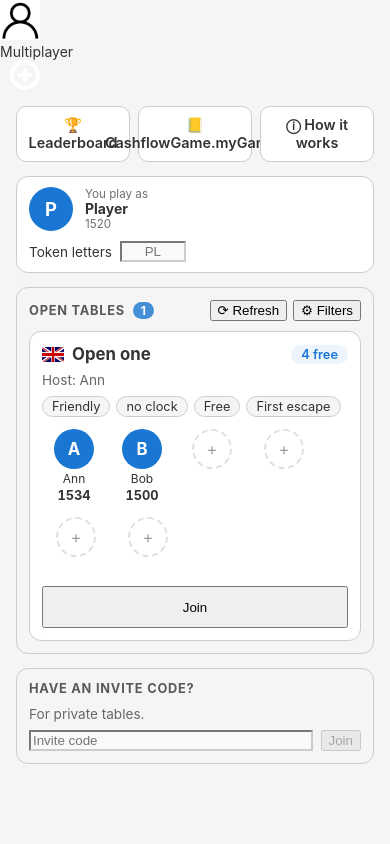
Test: TablesLobbyComponent › shows who sits at a table before joining, and opens their stats with a tap
This screenshot has width=390, height=844.
Check: the button with class "tl-seat" showing "B Bob 1500" is disabled, box [110, 425, 174, 507]
Click the button with class "tl-seat" showing "A Ann 1534" at (74, 466), box [42, 425, 106, 507]
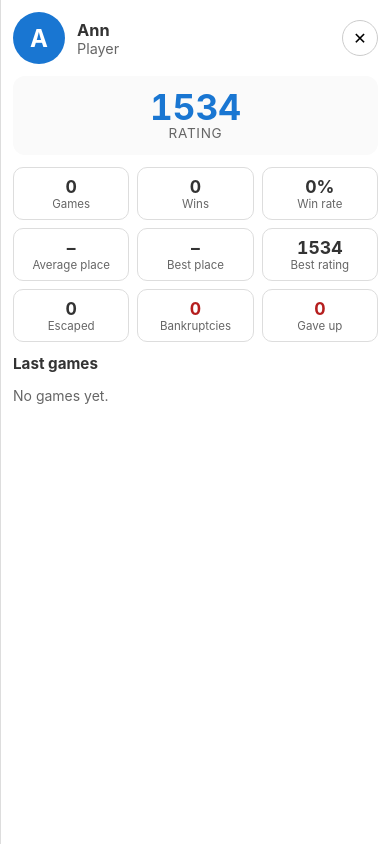
Check: the element that starts with "Ann" is shown
